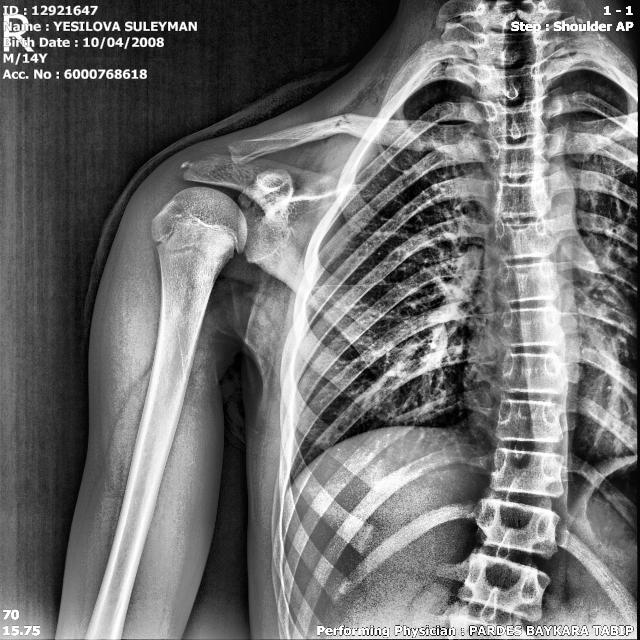Fracture: (316, 105, 366, 143)
